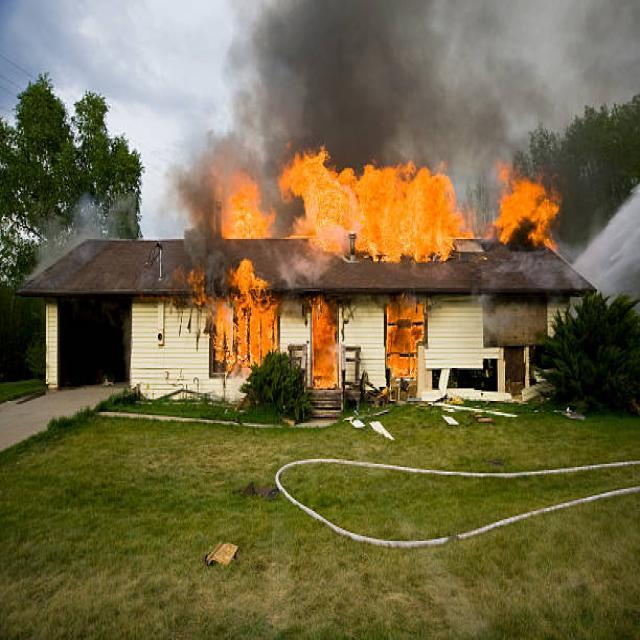Fire: (281, 140, 469, 267), (210, 172, 288, 364), (482, 159, 572, 266), (390, 297, 423, 392), (311, 304, 335, 386)
Smoke: (203, 0, 554, 239)
